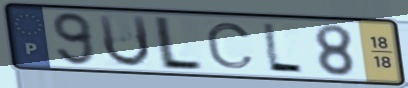8: (310, 22, 357, 78)
9: (49, 10, 96, 68)
C: (203, 20, 258, 71)
L: (154, 15, 206, 73), (260, 21, 306, 76)
U: (95, 12, 153, 69)
